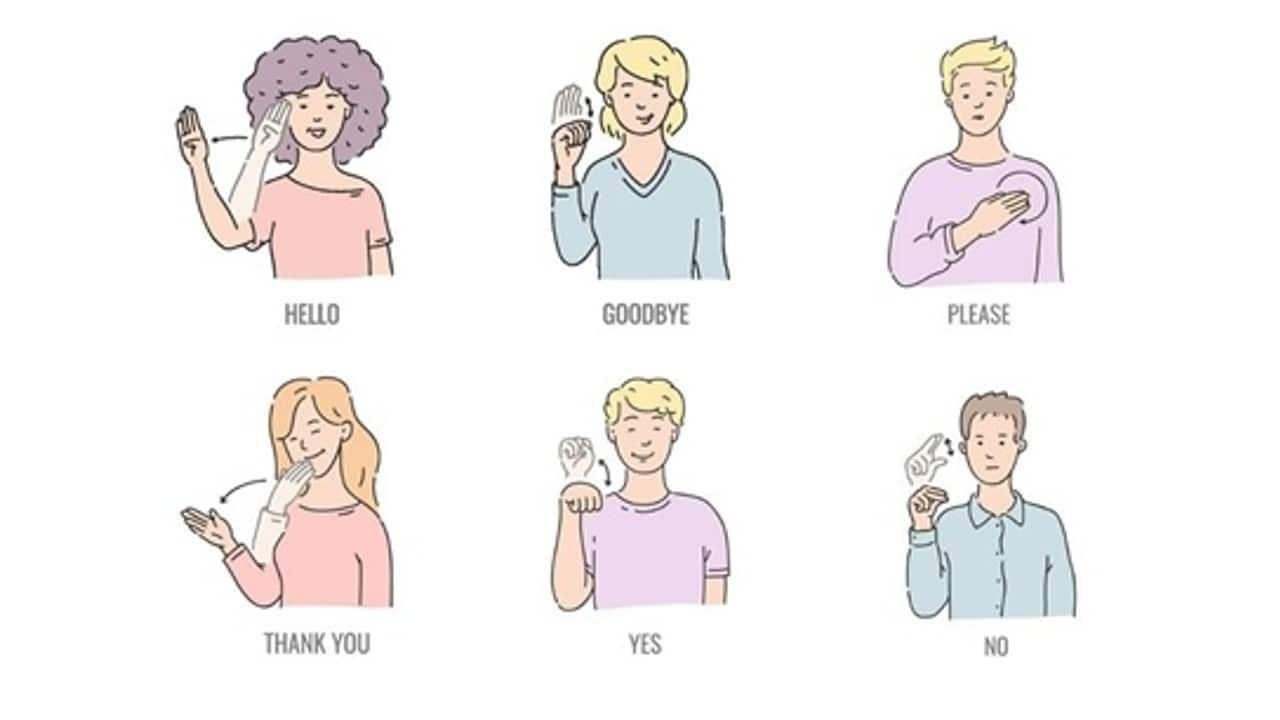Yes: (551, 470, 608, 522)
